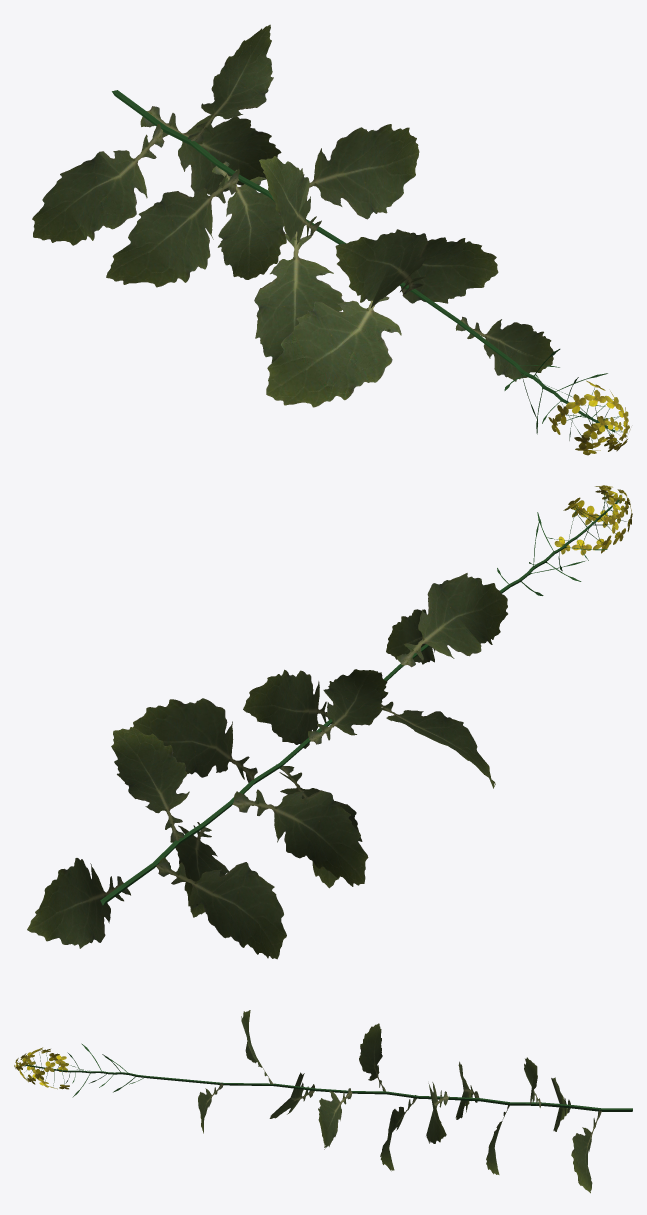
3 renders of one model, top to bottom at view 1: azimuth 30°, elevation 25°; view 2: azimuth 150°, elevation 25°; view 3: azimuth 270°, elevation 25°, orthographic. The views are drawn at different scales.
Parts seen in each view (by area): view 1: GC22_v1; view 2: GC22_v1; view 3: GC22_v1.
Boxes of the visible parts, <box> form: GC22_v1: <box>32,24,630,455</box>; GC22_v1: <box>27,485,632,959</box>; GC22_v1: <box>14,1010,632,1193</box>.
Bounding box in the file's own units: 0.3545 × 0.3115 × 1.05.
Materials: 3 (3 with a texture image).
